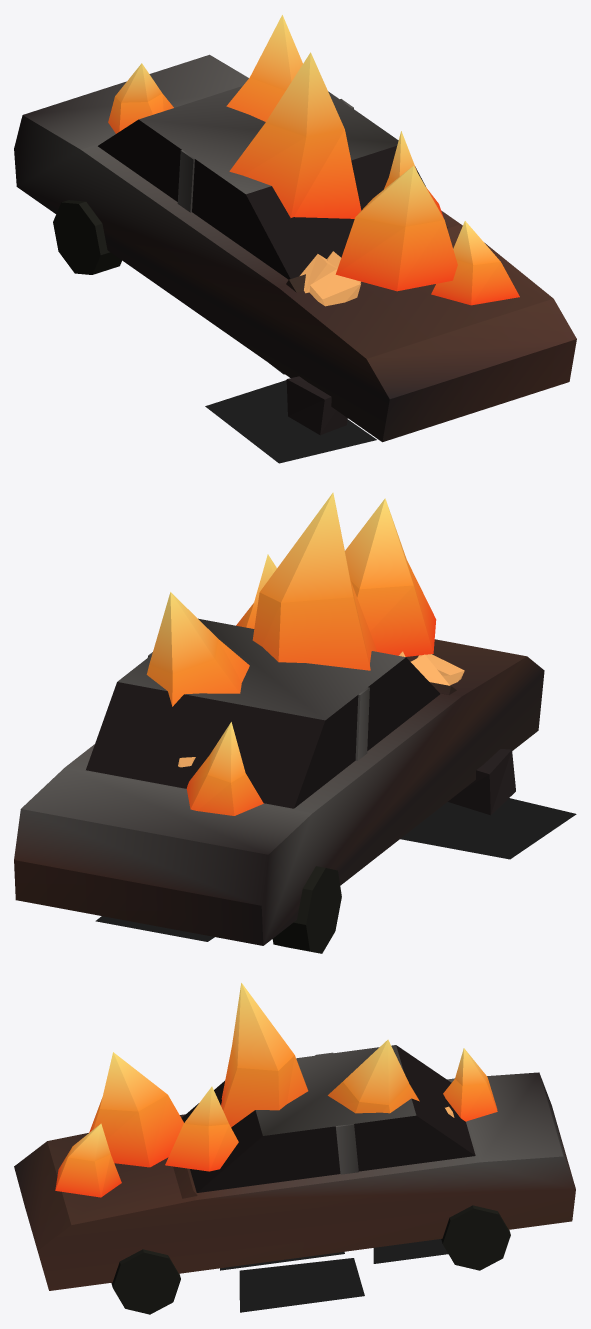
File: prop_car_burnt.meshopt.glb
The picture shows the model from 3 angles, top to bottom: view 1: azimuth 30°, elevation 25°; view 2: azimuth 150°, elevation 25°; view 3: azimuth 270°, elevation 25°; orthographic projection. The views are drawn at different scales.
Parts seen in each view (by area): view 1: car_burnt, fx_flame; view 2: car_burnt, fx_flame; view 3: car_burnt, fx_flame.
Part boxes in pixels (<box>): car_burnt: <box>14,54,576,463</box>; fx_flame: <box>108,15,519,305</box>; car_burnt: <box>14,618,576,953</box>; fx_flame: <box>146,492,436,815</box>; car_burnt: <box>14,1045,575,1314</box>; fx_flame: <box>55,983,497,1197</box>.
Size of the model in its own units: 2.53 by 2.63 by 4.89.
